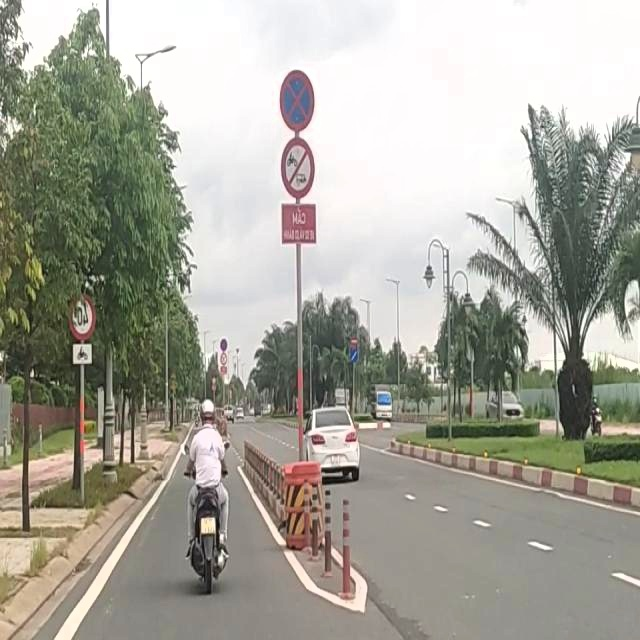P.111: (280, 133, 318, 204)
P.127*40: (69, 291, 95, 341)
P.130: (277, 65, 315, 135)
S.505a*Xe may: (72, 337, 96, 368)
